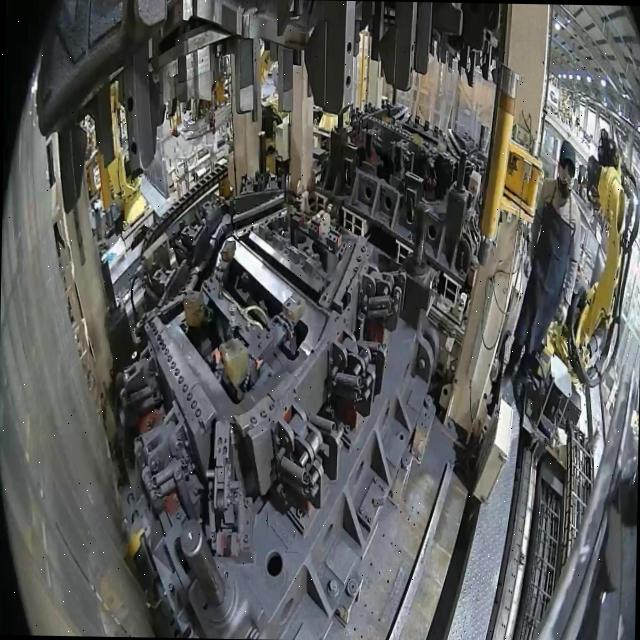Person: (502, 137, 583, 410)
